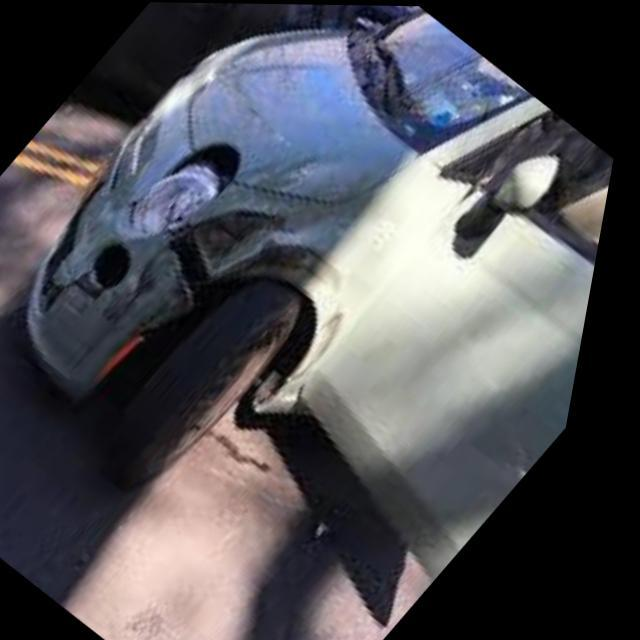dislocated part: (36, 174, 289, 393)
lamp broken: (136, 144, 250, 228)
